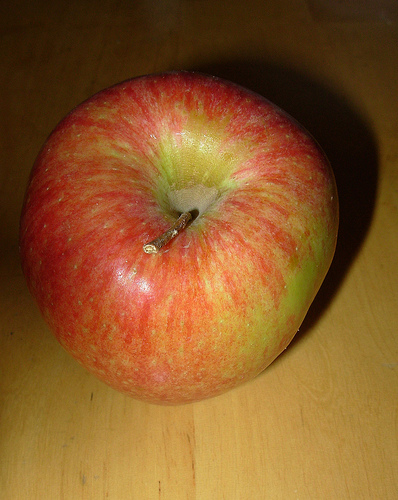apple: (17, 67, 341, 408)
